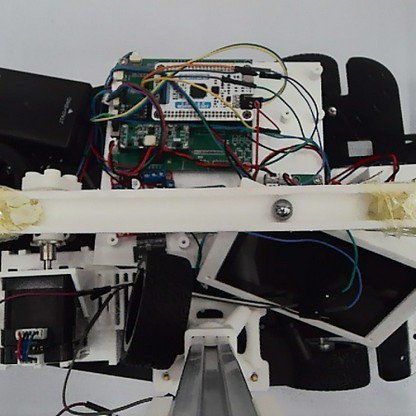ironball: (268, 196, 294, 222)
